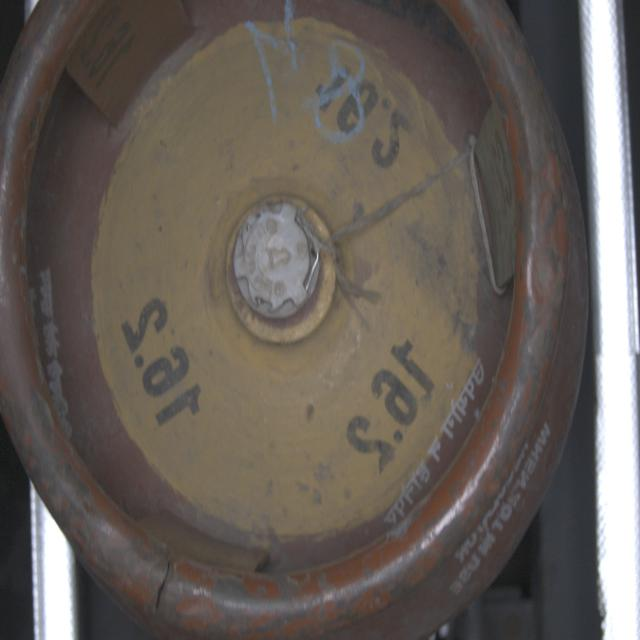Cap: (229, 195, 320, 324)
